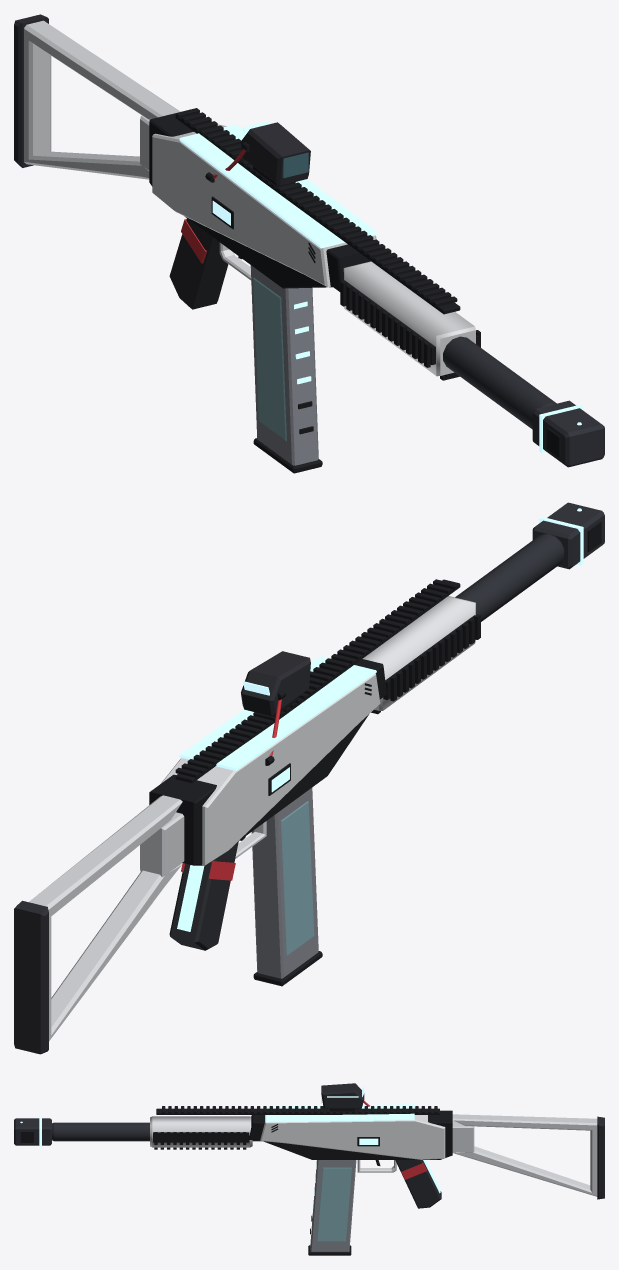
Rendered from cyber-rifle.glb.
3 views of the same model, one above another, from view 1: azimuth 30°, elevation 25°; view 2: azimuth 150°, elevation 25°; view 3: azimuth 270°, elevation 25° (orthographic). The views are drawn at different scales.
Parts seen in each view (by area): view 1: Receiver, Stock, Magazine, Handguard, Barrel, Muzzle, Grip, Optic; view 2: Receiver, Stock, Magazine, Handguard, Grip, Barrel, Optic, Muzzle; view 3: Receiver, Stock, Magazine, Handguard, Barrel, Grip, Optic, Muzzle.
Part boxes in pixels (left/top/right/bottom): Receiver: left=149, top=108, right=460, bottom=314; Stock: left=14, top=14, right=180, bottom=179; Magazine: left=250, top=265, right=322, bottom=473; Handguard: left=340, top=261, right=480, bottom=380; Barrel: left=443, top=336, right=556, bottom=429; Muzzle: left=532, top=400, right=604, bottom=467; Grip: left=169, top=218, right=228, bottom=309; Optic: left=205, top=121, right=310, bottom=186; Receiver: left=149, top=579, right=460, bottom=865; Stock: left=14, top=795, right=184, bottom=1054; Magazine: left=251, top=788, right=322, bottom=986; Handguard: left=362, top=596, right=480, bottom=714; Grip: left=169, top=841, right=238, bottom=950; Barrel: left=455, top=534, right=564, bottom=621; Optic: left=241, top=651, right=310, bottom=765; Muzzle: left=532, top=502, right=604, bottom=569; Receiver: left=156, top=1104, right=452, bottom=1172; Stock: left=452, top=1114, right=604, bottom=1199; Magazine: left=308, top=1160, right=356, bottom=1255; Handguard: left=150, top=1116, right=252, bottom=1149; Barrel: left=52, top=1122, right=261, bottom=1141; Grip: left=395, top=1160, right=441, bottom=1208; Optic: left=321, top=1083, right=369, bottom=1111; Muzzle: left=14, top=1116, right=51, bottom=1146.
Bounding box in the file's own units: 0.0598 × 0.2882 × 0.9334.
